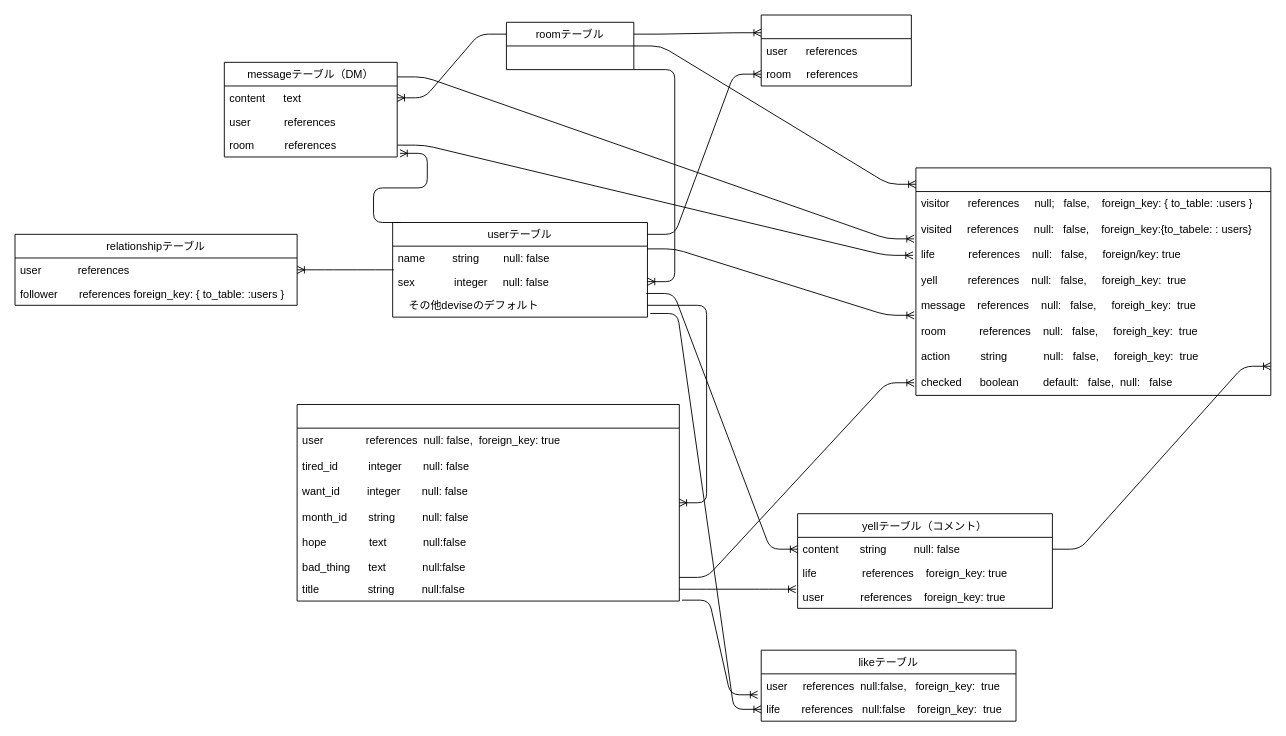
The diagram is 1286 pixels wide and 736 high, and some of its shapes have lost their labels. The shapes that lost their labels are listed below. From the top down, each one's box as (x1, y1, x2, y2) in pixels, then its label:
(760, 14, 911, 86): entryテーブル
(915, 167, 1271, 395): lightテーブル（通知）
(296, 404, 679, 601): lifeテーブル（投稿）
